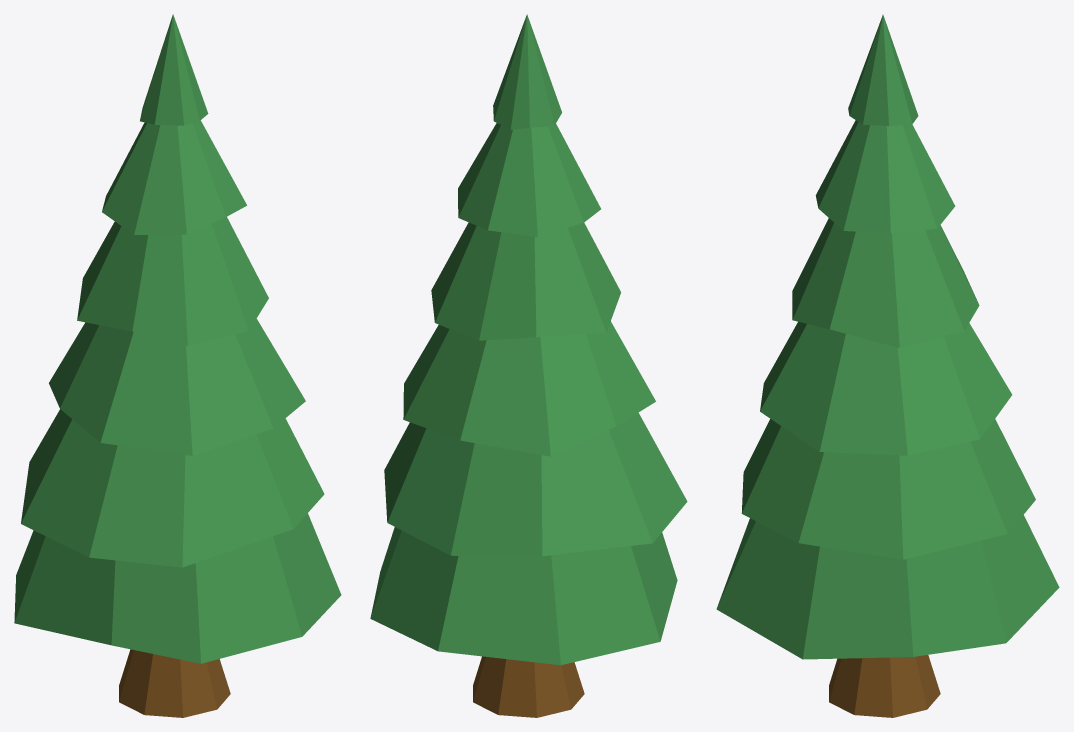
File: Sapins2Tailles.fbx
3 renders of one model, left to right at view 1: azimuth 30°, elevation 25°; view 2: azimuth 150°, elevation 25°; view 3: azimuth 270°, elevation 25°, orthographic.
Parts seen in each view (by area): view 1: Cylinder.002; view 2: Cylinder.002; view 3: Cylinder.002.
Part boxes in pixels (x1,y1,x2,y2): Cylinder.002: [14, 14, 341, 717]; Cylinder.002: [370, 14, 687, 717]; Cylinder.002: [716, 14, 1059, 717].
Bounding box in the file's own units: 561 × 1306 × 598.
